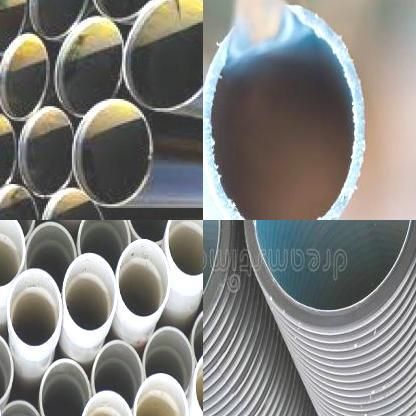pipe: (203, 3, 364, 220), (244, 220, 416, 329), (70, 96, 155, 212), (120, 0, 203, 115), (51, 14, 126, 120), (18, 103, 78, 200), (8, 268, 63, 349), (117, 238, 171, 320), (0, 31, 49, 120), (63, 254, 117, 333), (91, 340, 144, 414), (24, 222, 77, 295), (143, 326, 195, 396), (77, 220, 130, 277), (39, 358, 91, 416), (28, 0, 93, 42), (36, 184, 110, 220), (134, 373, 188, 416), (165, 220, 203, 278), (90, 0, 176, 23), (0, 220, 25, 290), (0, 111, 19, 195), (0, 0, 29, 55), (80, 389, 134, 416), (0, 184, 40, 220), (125, 220, 177, 244), (0, 329, 13, 403), (190, 305, 203, 361)
